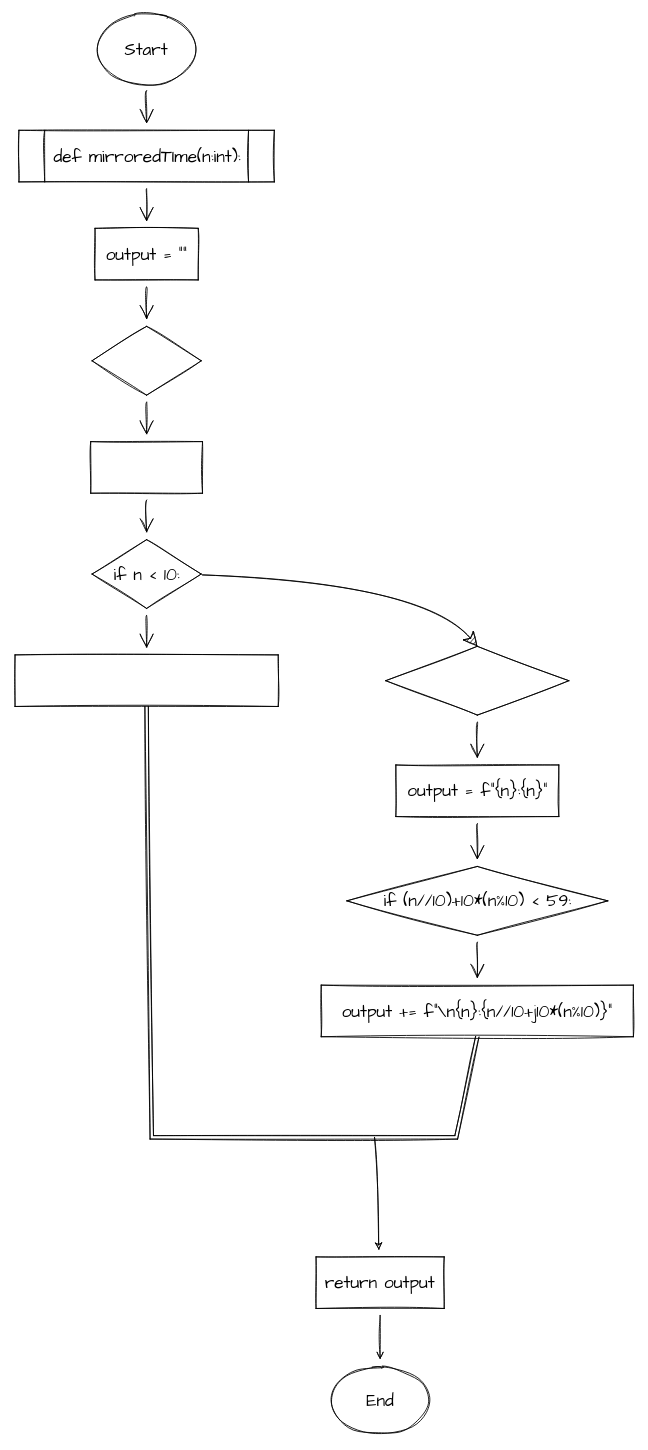
Image size: 648x1450. Some labels were removed from this diagram. Here are the shapes that lost their labels. From the top down, the box of each, then its label:
(91, 326, 201, 395): if n > 24:
(90, 441, 203, 493): return None
(14, 654, 278, 706): output = f"0{n}:0{n}, 0{n}:{n}0"
(385, 645, 569, 715): elif 10 <= n < 24:
